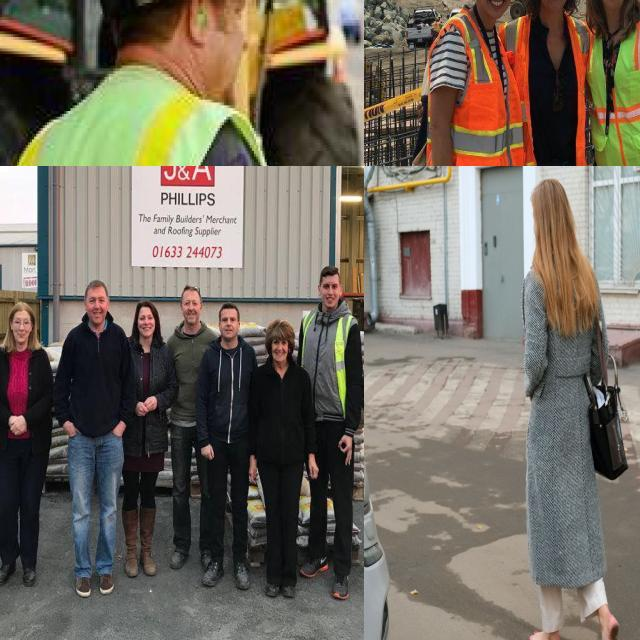Barefoots: (599, 616, 619, 640), (529, 630, 561, 640)
No_Glasses: (87, 294, 106, 304), (182, 298, 199, 308), (322, 281, 339, 291), (138, 313, 154, 323), (221, 314, 237, 324), (272, 339, 286, 348)
boots: (122, 506, 140, 579), (140, 507, 156, 582)
face_nomask: (194, 0, 258, 108), (316, 275, 343, 311), (86, 290, 110, 324), (271, 331, 291, 370), (133, 310, 159, 339), (180, 293, 202, 325), (218, 306, 238, 340), (478, 0, 516, 15), (10, 317, 31, 344)
hand_noglove: (244, 450, 264, 489), (134, 390, 158, 422), (6, 414, 32, 442), (306, 446, 323, 486), (106, 416, 128, 446), (62, 408, 78, 444), (340, 436, 356, 472), (201, 437, 219, 464)
head_nohelmet: (267, 316, 297, 340), (8, 297, 36, 322), (322, 252, 341, 283), (85, 271, 108, 293), (218, 299, 243, 315), (139, 294, 155, 317), (183, 281, 200, 298)
person: (0, 0, 326, 166), (53, 276, 128, 598), (302, 265, 364, 601), (252, 324, 312, 603), (203, 302, 261, 590), (427, 0, 519, 166), (0, 303, 52, 589), (515, 0, 588, 166), (127, 299, 167, 578), (168, 285, 208, 562), (586, 0, 640, 166)
shoes: (94, 562, 120, 602), (228, 556, 253, 596), (331, 564, 354, 604), (200, 550, 223, 589), (304, 544, 330, 578), (18, 554, 41, 588), (69, 567, 93, 599), (167, 542, 190, 574), (0, 559, 18, 586)
vest: (10, 79, 320, 166), (433, 7, 517, 166), (501, 16, 589, 166), (588, 5, 640, 166)
